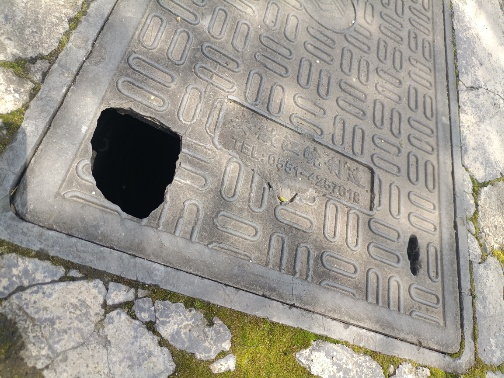broke: (65, 12, 475, 329)
